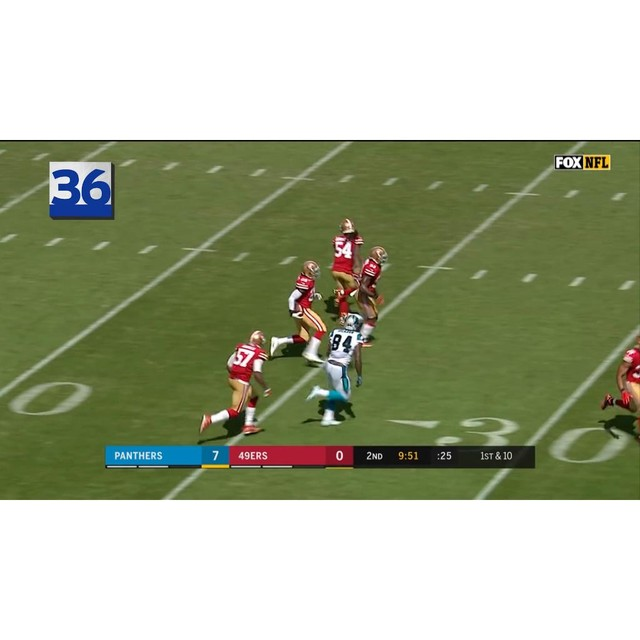american-football-player: (198, 330, 273, 438), (303, 313, 368, 424), (270, 262, 327, 362), (599, 333, 640, 431), (328, 219, 366, 318), (355, 247, 389, 342)
